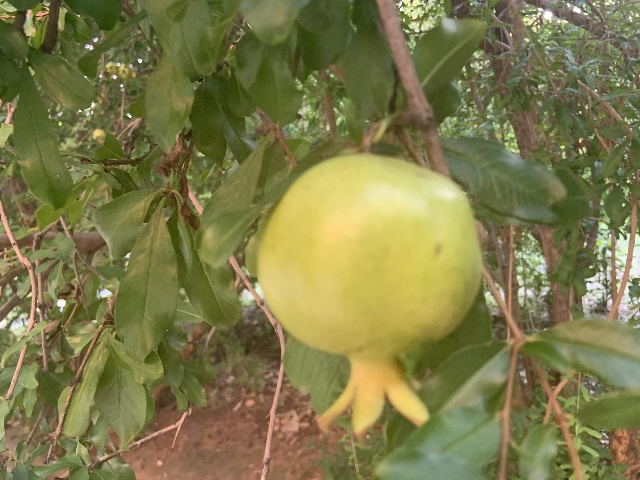mid-growth: (256, 153, 483, 441)
